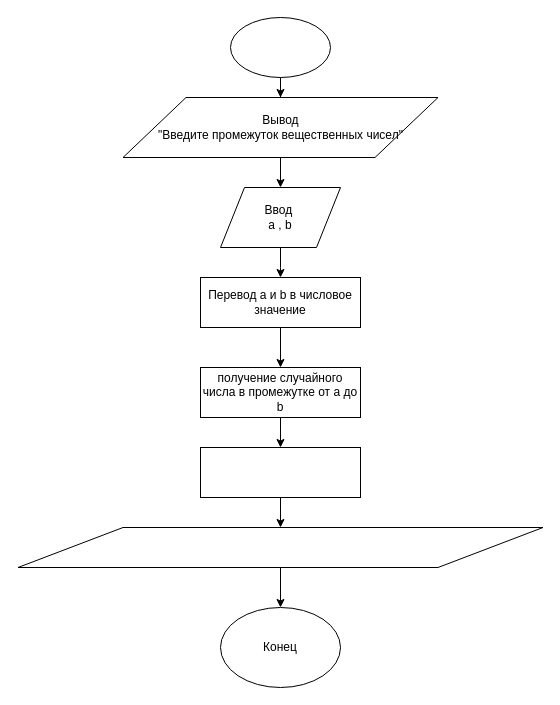
Some shapes in this 560 by 705 pixel diagram are drawn without their labels. Each missing label, with the box of its shape:
Вывод "Вывод случайного символа: 'случайный символ' ": (17, 526, 543, 568)
начало: (230, 16, 330, 78)
преобразование полученного числа в букву: (200, 446, 360, 498)
